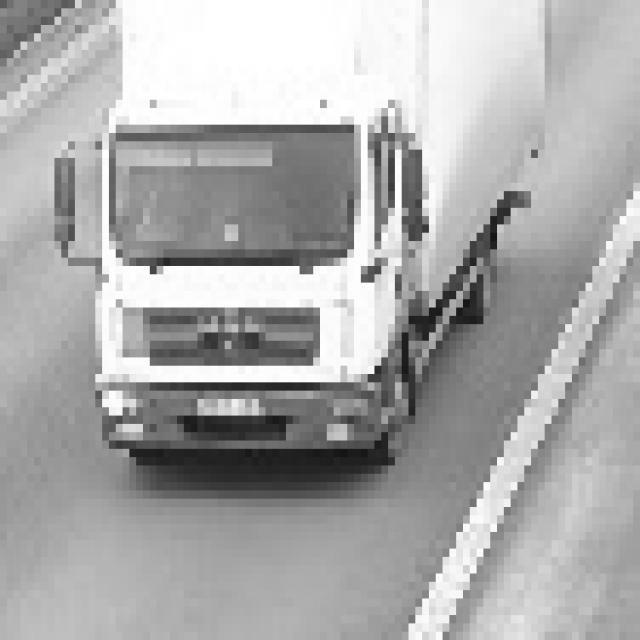truck: (56, 64, 435, 475)
